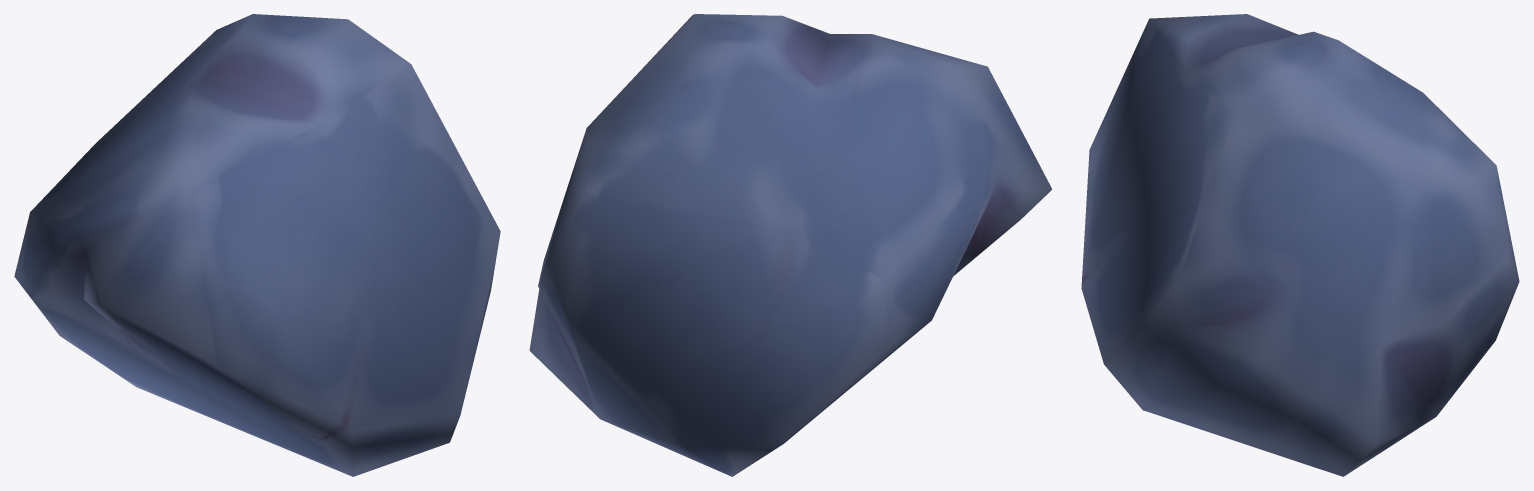
The model's file is Stone01.glb.
3 renders of one model, left to right at view 1: azimuth 30°, elevation 25°; view 2: azimuth 150°, elevation 25°; view 3: azimuth 270°, elevation 25°, orthographic. The views are drawn at different scales.
Parts seen in each view (by area): view 1: stone_stylized01; view 2: stone_stylized01; view 3: stone_stylized01.
Part boxes in pixels (x1,y1,x2,y2): stone_stylized01: (14, 14, 500, 476); stone_stylized01: (529, 14, 1052, 476); stone_stylized01: (1081, 14, 1519, 476).
Size of the model in its own units: 0.9765 by 0.8558 by 0.9383.
1 material, 1 textured.
